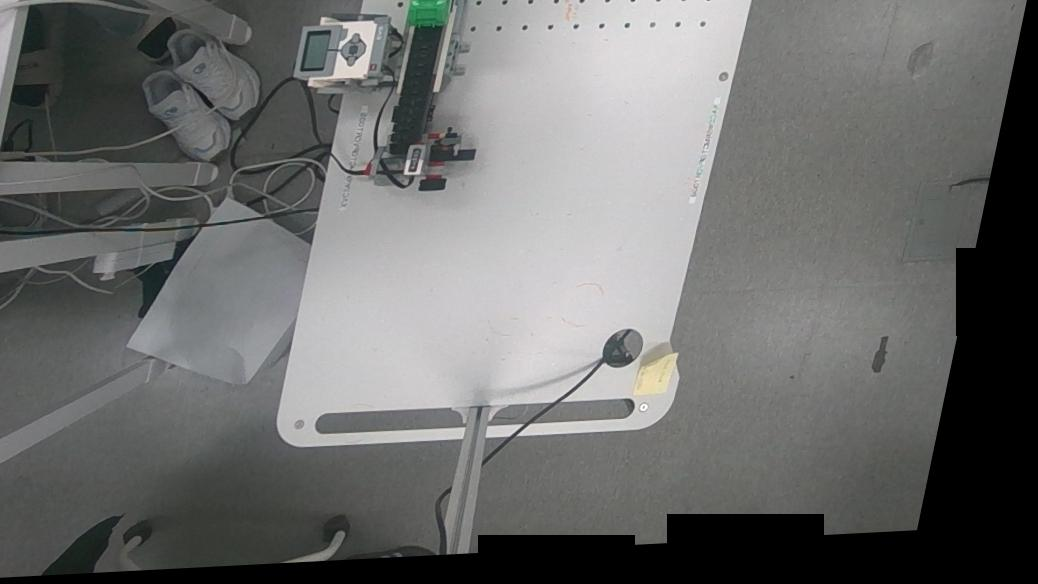truck: (397, 0, 469, 29)
